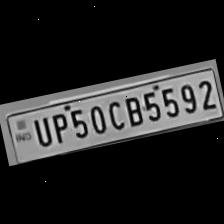0: (84, 100, 108, 135)
2: (192, 75, 218, 112)
5: (138, 86, 162, 124), (157, 82, 181, 120), (65, 104, 90, 140)
9: (174, 79, 198, 115)
B: (120, 92, 144, 128)
C: (102, 96, 125, 132)
P: (46, 108, 72, 145)
U: (28, 113, 53, 150)
